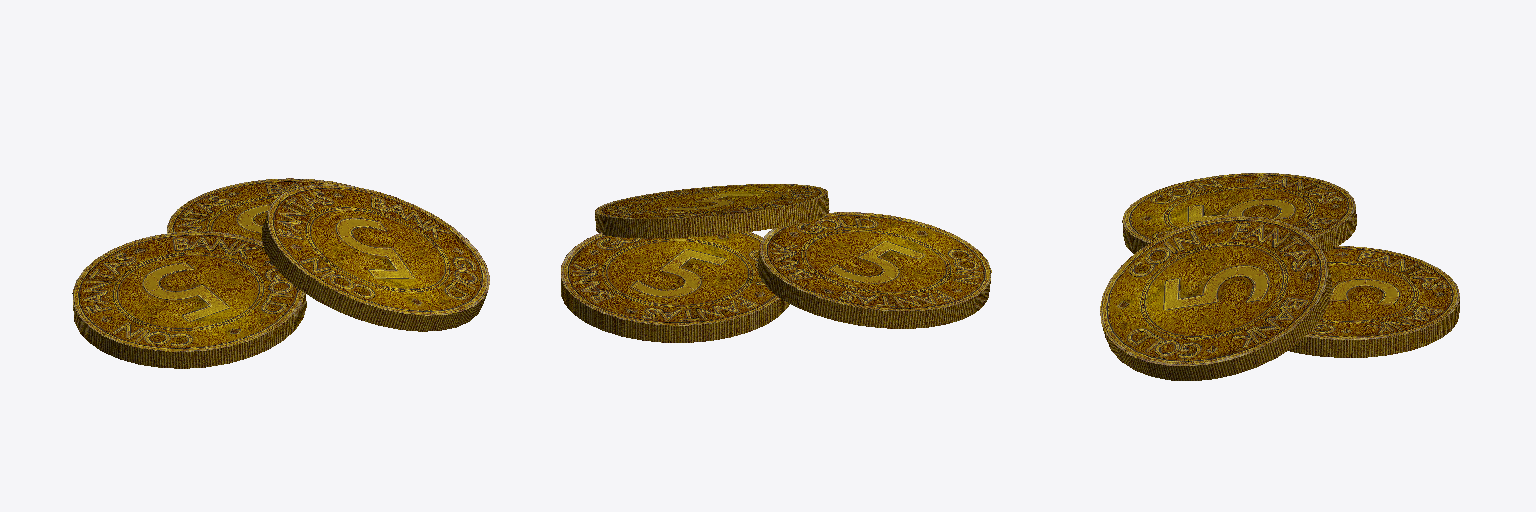
The picture shows the model from 3 angles: view 1: azimuth 30°, elevation 25°; view 2: azimuth 150°, elevation 25°; view 3: azimuth 270°, elevation 25°; orthographic projection.
Parts seen in each view (by area): view 1: coin01.016_Circle.016; view 2: coin01.016_Circle.016; view 3: coin01.016_Circle.016.
Boxes of the visible parts, x1,y1,x2,y2 form: coin01.016_Circle.016: [72, 178, 489, 368]; coin01.016_Circle.016: [561, 184, 991, 342]; coin01.016_Circle.016: [1100, 173, 1459, 380].
Bounding box in the file's own units: 0.3856 × 0.0813 × 0.3197.
1 materials, 1 textured.